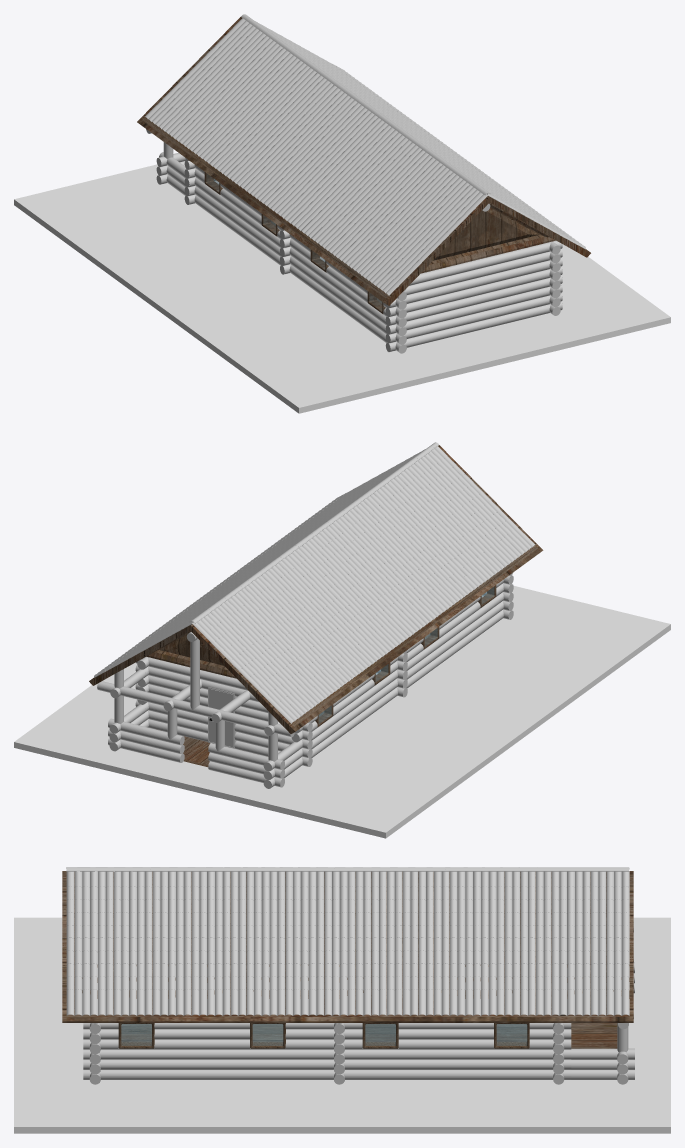
File: Wood House 4.fbx
3 views of the same model, one above another, from view 1: azimuth 30°, elevation 25°; view 2: azimuth 150°, elevation 25°; view 3: azimuth 270°, elevation 25° (orthographic). The views are drawn at different scales.
Visible parts, largest first — view 1: Cube.016, Cylinder.047, Cylinder.022, Cylinder.024, Cube.027, Cube.022, Cylinder.011, Cube.002; view 2: Cube.016, Cylinder.047, Cylinder.024, Cylinder.001, Cube.027, Cylinder.011, Cylinder.035, Cylinder.032, Cylinder.007, Cube.022, Cube.002, Cube.005 (+3 smaller); view 3: Cylinder.047, Cube.016, Cylinder.006, Cube.027, Cube.001, Cube.011, Cylinder.011, Cylinder.025, Cube.002.
Boxes of the visible parts, box(x1,y1,x2,y2) form: Cube.016: box(14, 164, 670, 413); Cylinder.047: box(145, 14, 585, 295); Cylinder.022: box(387, 240, 562, 351); Cylinder.024: box(194, 165, 404, 351); Cube.027: box(137, 17, 590, 305); Cube.022: box(421, 204, 555, 273); Cylinder.011: box(146, 129, 560, 353); Cube.002: box(204, 172, 385, 313); Cube.016: box(14, 586, 670, 838); Cylinder.047: box(94, 442, 535, 723); Cylinder.024: box(294, 580, 503, 767); Cylinder.001: box(135, 656, 310, 766); Cube.027: box(89, 445, 543, 733); Cylinder.011: box(109, 573, 513, 788); Cylinder.035: box(208, 743, 283, 787); Cylinder.032: box(108, 718, 182, 762); Cylinder.007: box(97, 681, 290, 736); Cube.022: box(146, 634, 236, 678); Cube.002: box(315, 585, 496, 727); Cube.005: box(209, 688, 233, 747); Cylinder.047: box(66, 867, 629, 1015); Cube.016: box(14, 917, 670, 1133); Cylinder.006: box(83, 1023, 571, 1079); Cube.027: box(62, 871, 633, 1022); Cube.001: box(121, 1023, 617, 1048); Cube.011: box(121, 1024, 527, 1045); Cylinder.011: box(89, 1023, 628, 1084); Cylinder.025: box(571, 1048, 634, 1079); Cube.002: box(118, 1023, 529, 1048).
Size of the model in its own units: 1508 by 591 by 2003.
